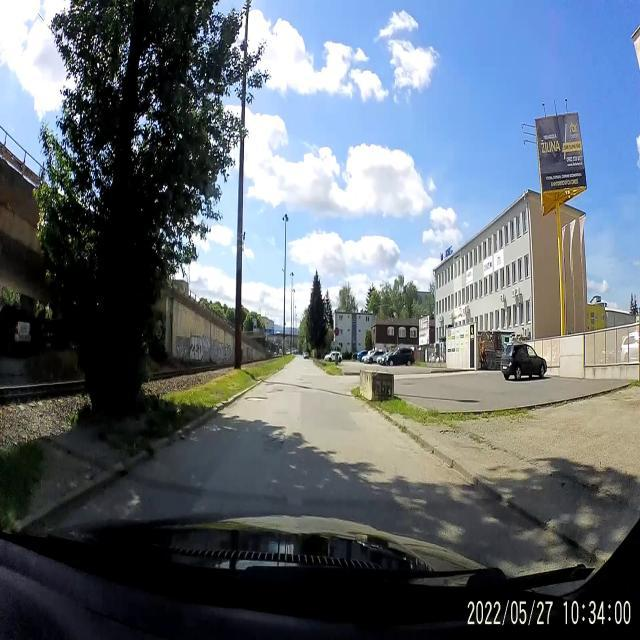Manhole: (244, 391, 268, 405)
Pothole: (260, 434, 286, 456), (267, 386, 285, 396), (292, 388, 302, 396), (296, 377, 305, 383)
